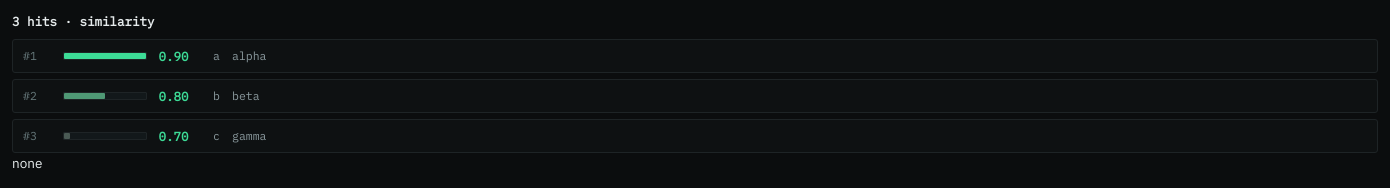
clicking a hit selects it with rank, metric, side, and delta
What coordinates should you click on to do the following:
click the button "#2 0.80 b beta"
I would click on:
 (105, 96)
Its box is top-left (13, 80), bottom-right (1377, 112).
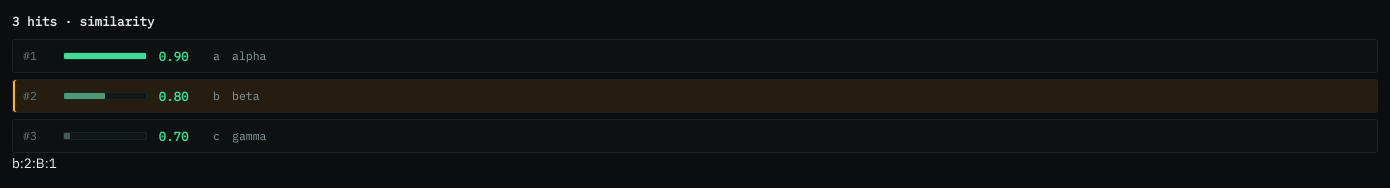
Expected: the text with test id "probe" reads "b:2:B:1", top-left (12, 154), bottom-right (57, 172)
